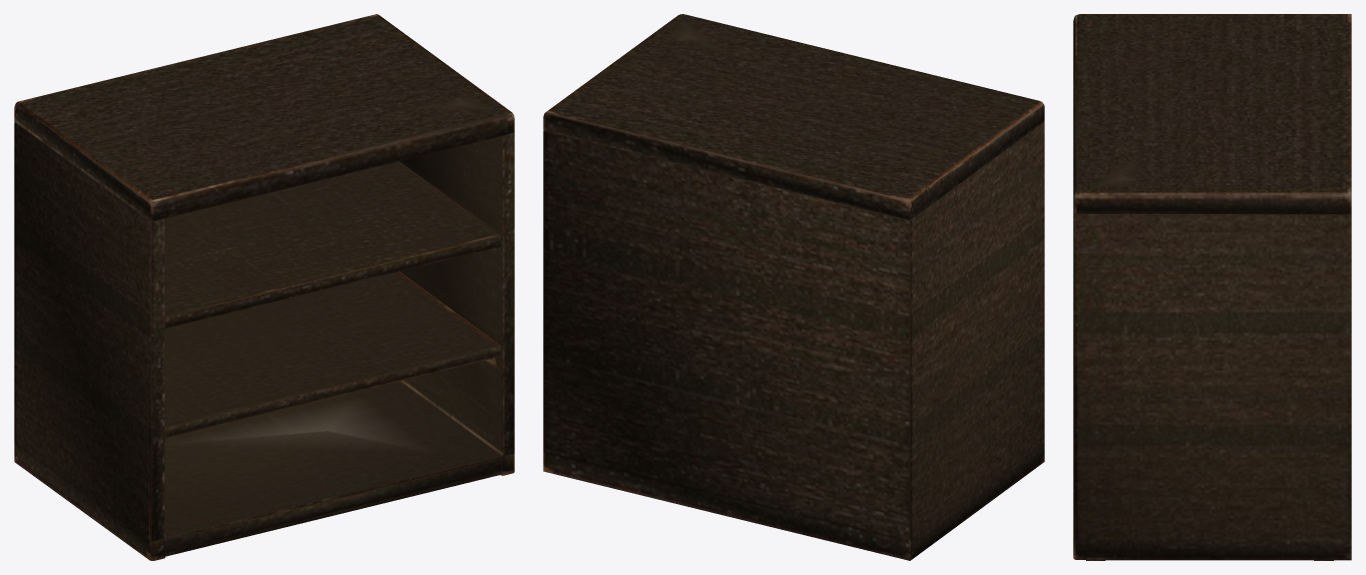
File: stage4_cabinet_base.fbx
3 views of the same model, side by side, from view 1: azimuth 30°, elevation 25°; view 2: azimuth 150°, elevation 25°; view 3: azimuth 270°, elevation 25° (orthographic).
Parts seen in each view (by area): view 1: stage4_cabinet_base; view 2: stage4_cabinet_base; view 3: stage4_cabinet_base.
Part boxes in pixels (x1,y1,x2,y2): stage4_cabinet_base: (14, 14, 514, 560); stage4_cabinet_base: (543, 14, 1044, 560); stage4_cabinet_base: (1073, 14, 1351, 560).
Size of the model in its own units: 55.02 by 52.01 by 35.52.
